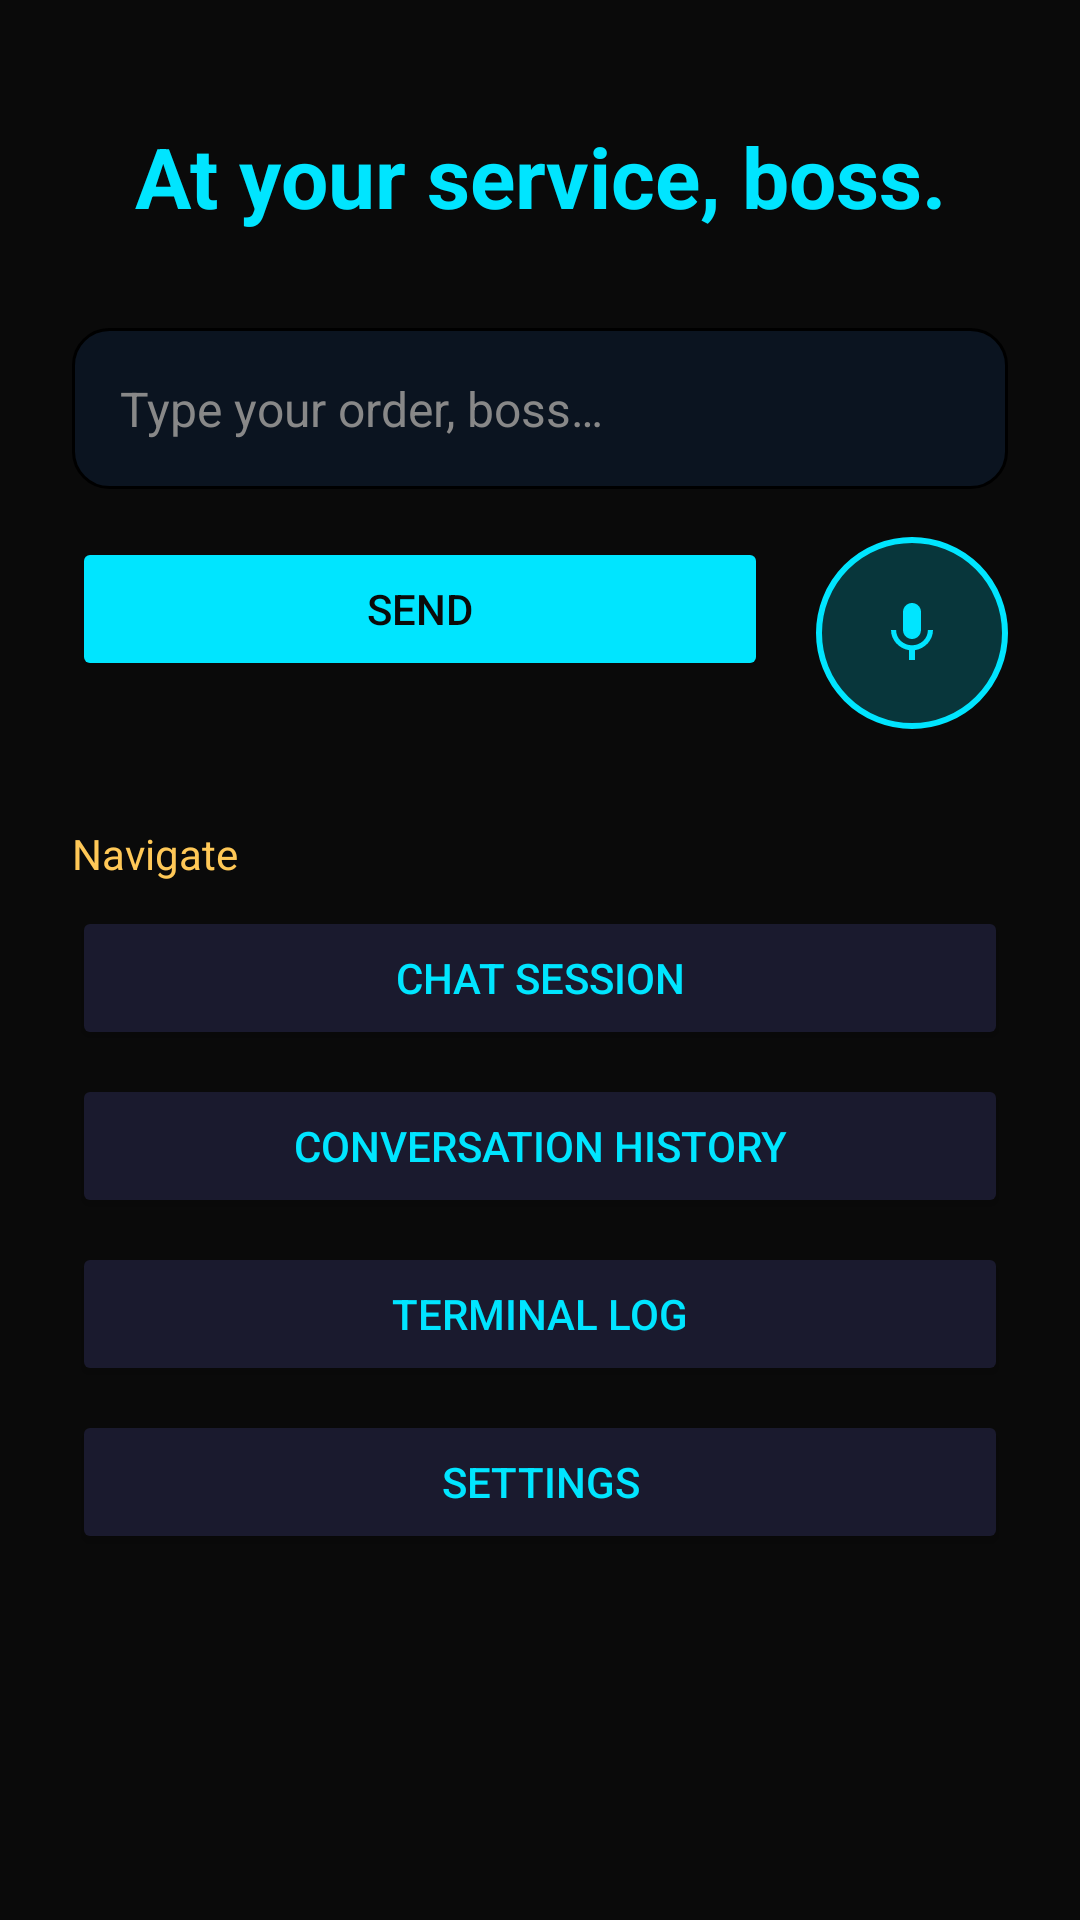

Where icons sit on this 1080*1920 app screen, as Rect(x1, y1, x2, y2):
Voice input: Rect(816, 537, 1008, 729)
